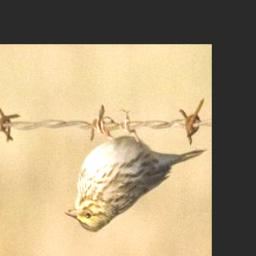Sparrow: (62, 110, 207, 237)
